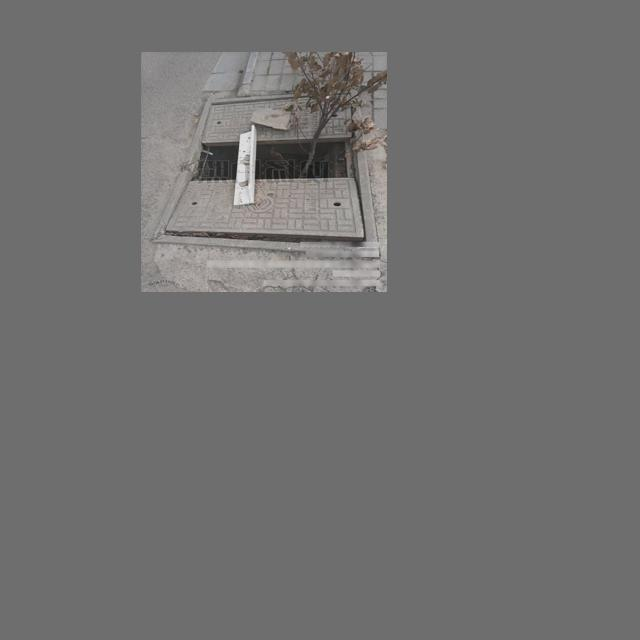lose: (152, 87, 381, 257)
